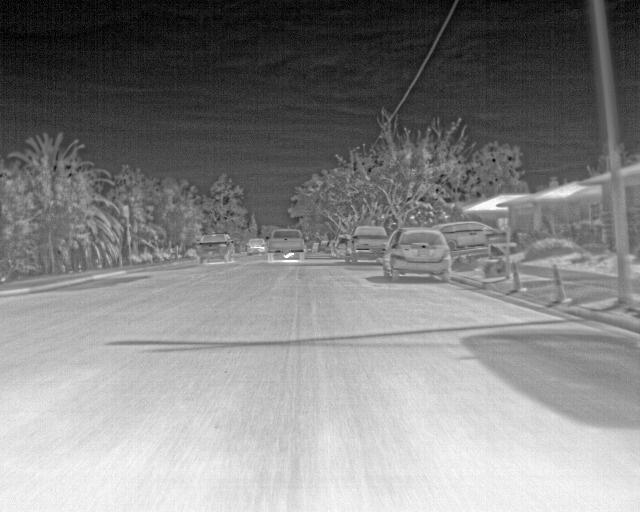car: (385, 225, 452, 280), (344, 224, 389, 264), (446, 218, 494, 252), (267, 229, 307, 264), (198, 232, 233, 264), (331, 234, 351, 255), (245, 236, 266, 255)
